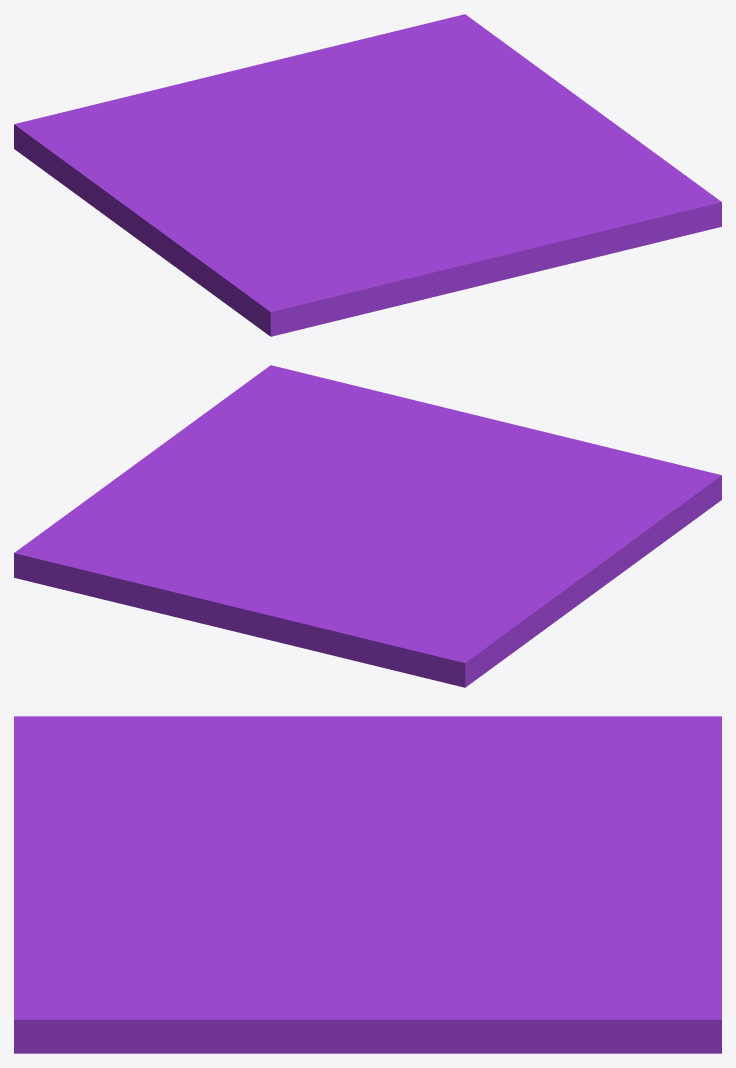
File: Window_168_chunks.fbx
3 views of the same model, one above another, from view 1: azimuth 30°, elevation 25°; view 2: azimuth 150°, elevation 25°; view 3: azimuth 270°, elevation 25° (orthographic). The views are drawn at different scales.
Parts seen in each view (by area): view 1: Window_168_1, Window_168_2, Window_168_14, Window_168_11, Window_168_8, Window_168_0, Window_168_37, Window_168_38, Window_168_9, Window_168_13, Window_168_40, Window_168_41 (+25 smaller); view 2: Window_168_1, Window_168_2, Window_168_14, Window_168_11, Window_168_0, Window_168_37, Window_168_41, Window_168_38, Window_168_40, Window_168_7, Window_168_21, Window_168_9 (+25 smaller); view 3: Window_168_1, Window_168_14, Window_168_2, Window_168_39, Window_168_38, Window_168_11, Window_168_0, Window_168_37, Window_168_40, Window_168_41, Window_168_7, Window_168_9 (+26 smaller).
Boxes of the visible parts, box(x1,y1,x2,y2) form: Window_168_1: box(14, 82, 219, 206); Window_168_2: box(199, 43, 397, 140); Window_168_14: box(547, 150, 721, 237); Window_168_11: box(428, 196, 570, 286); Window_168_8: box(223, 279, 402, 336); Window_168_0: box(242, 188, 433, 260); Window_168_37: box(397, 105, 642, 148); Window_168_38: box(415, 82, 624, 130); Window_168_9: box(348, 230, 473, 304); Window_168_13: box(512, 209, 676, 277); Window_168_40: box(388, 14, 493, 88); Window_168_41: box(345, 33, 451, 107); Window_168_1: box(292, 570, 557, 687); Window_168_2: box(132, 532, 340, 639); Window_168_14: box(201, 365, 359, 442); Window_168_11: box(347, 404, 534, 465); Window_168_0: box(432, 459, 629, 512); Window_168_37: box(174, 423, 291, 531); Window_168_41: box(55, 521, 234, 606); Window_168_38: box(118, 436, 229, 524); Window_168_40: box(15, 508, 172, 585); Window_168_7: box(555, 449, 686, 514); Window_168_21: box(502, 553, 610, 629); Window_168_9: box(474, 429, 599, 479); Window_168_1: box(459, 716, 721, 832); Window_168_14: box(14, 935, 231, 1053); Window_168_2: box(456, 840, 721, 938); Window_168_39: box(415, 987, 721, 1053); Window_168_38: box(271, 930, 521, 1053); Window_168_11: box(14, 841, 192, 938); Window_168_0: box(138, 737, 314, 867); Window_168_37: box(232, 916, 509, 1037); Window_168_40: box(509, 961, 721, 1018); Window_168_41: box(493, 923, 721, 967); Window_168_7: box(26, 716, 167, 798); Window_168_9: box(14, 797, 154, 852).
Bounding box in the file's own units: 1165 × 60.81 × 1149.
